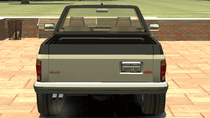car: (36, 4, 170, 117)
